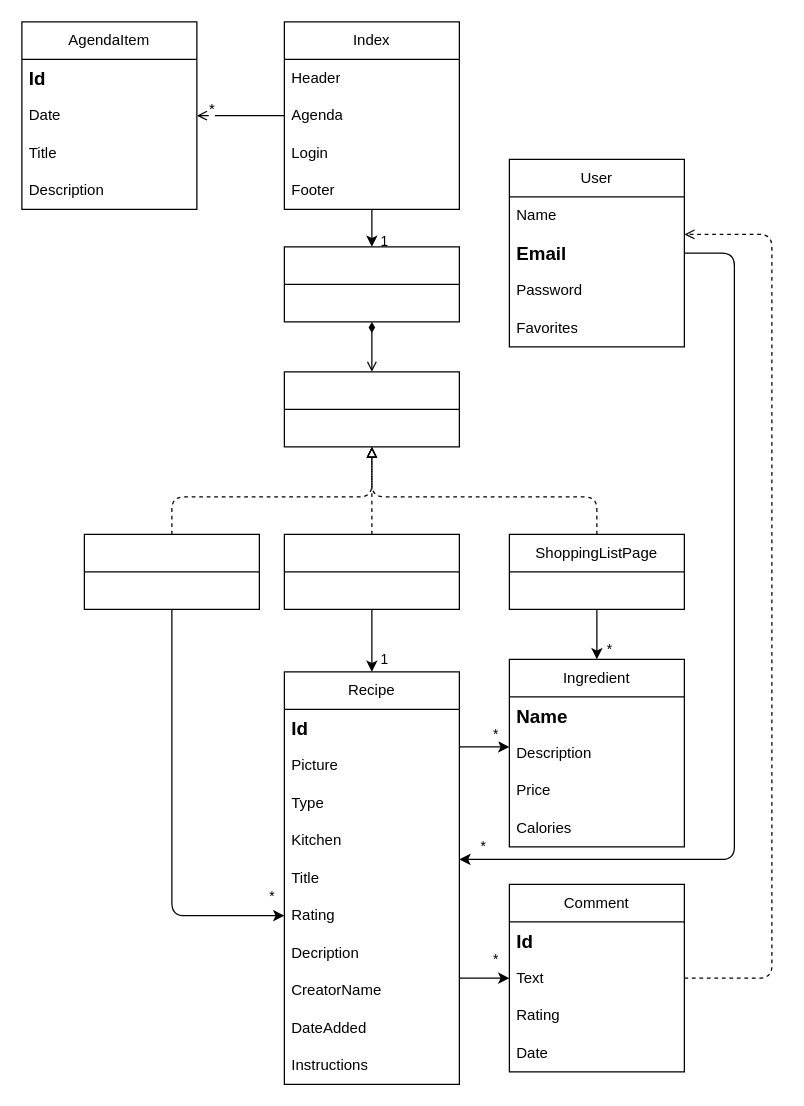
Some shapes in this 804 by 1106 pixel diagram are drawn without their labels. Each missing label, with the centre of its shape:
"Content" belongs at point (371, 284).
"DetailPage" belongs at point (371, 571).
"HomePage" belongs at point (171, 571).
"Strategy" belongs at point (371, 409).
